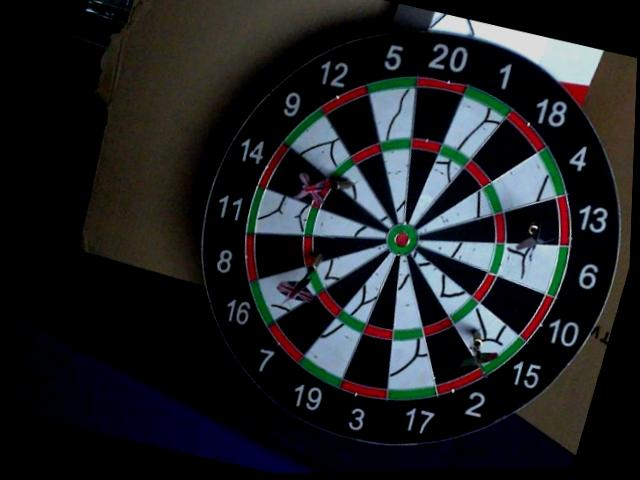single_13: (499, 191, 568, 255)
single_15: (447, 302, 524, 377)
single_8: (305, 224, 376, 279)
single_9: (330, 163, 406, 228)
